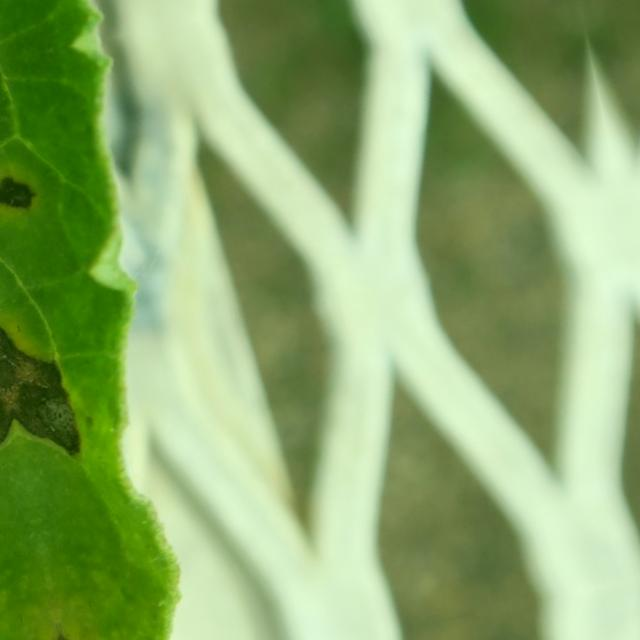Tomato Early blight leaf: (0, 8, 381, 640)
